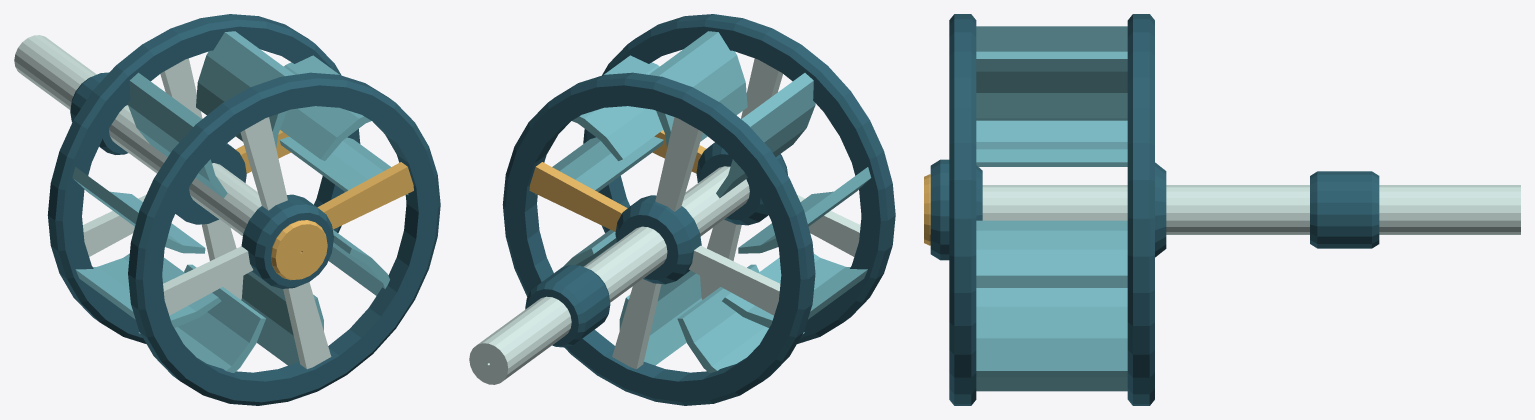
File: crossflow_runner.glb
The picture shows the model from 3 angles, left to right: view 1: azimuth 30°, elevation 25°; view 2: azimuth 150°, elevation 25°; view 3: azimuth 270°, elevation 25°; orthographic projection. The views are drawn at different scales.
Visible parts, largest first — view 1: Runner; view 2: Runner; view 3: Runner.
Part boxes in pixels (<box>): Runner: <box>14,14,440,405</box>; Runner: <box>469,14,895,405</box>; Runner: <box>924,14,1520,405</box>.
Size of the model in its own units: 1.58 by 1.58 by 2.41.
